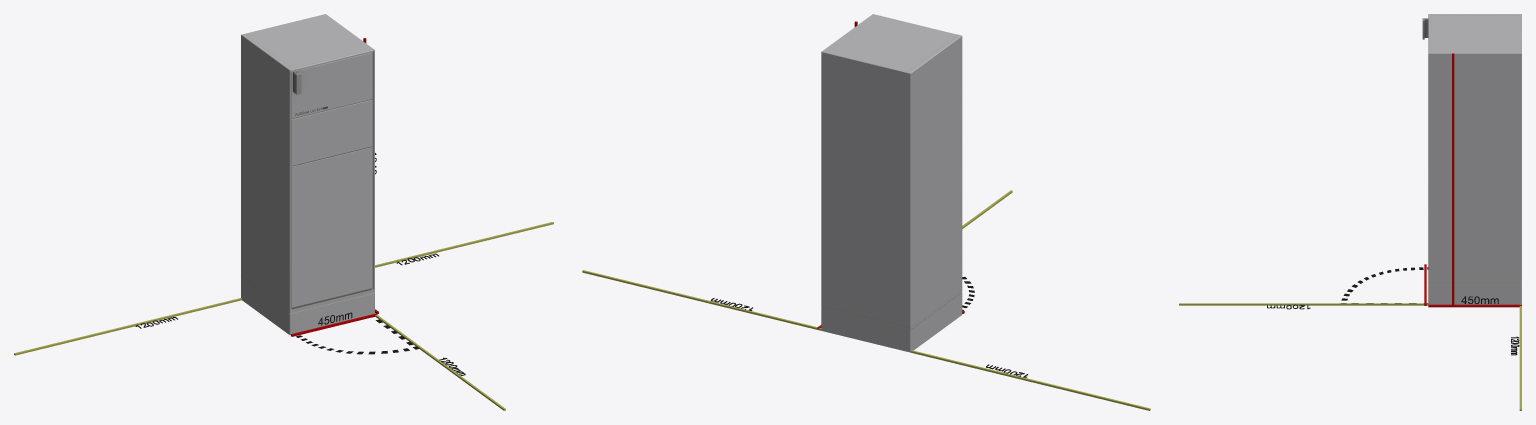
File: lockerhome.glb
3 renders of one model, left to right at view 1: azimuth 30°, elevation 25°; view 2: azimuth 150°, elevation 25°; view 3: azimuth 270°, elevation 25°, orthographic. The views are drawn at different scales.
Visible parts, largest first — view 1: defaultGroup1, defaultGroup2; view 2: defaultGroup1, defaultGroup2; view 3: defaultGroup1, defaultGroup2.
Boxes of the visible parts, x1,y1,x2,y2 form: defaultGroup1: (241, 14, 374, 335); defaultGroup2: (14, 38, 553, 410); defaultGroup1: (821, 14, 962, 352); defaultGroup2: (582, 21, 1150, 410); defaultGroup1: (1422, 14, 1521, 304); defaultGroup2: (1179, 53, 1521, 410).
Bounding box in the file's own units: 2.85 × 1.34 × 1.65.
Materials: 1 (1 with a texture image).
